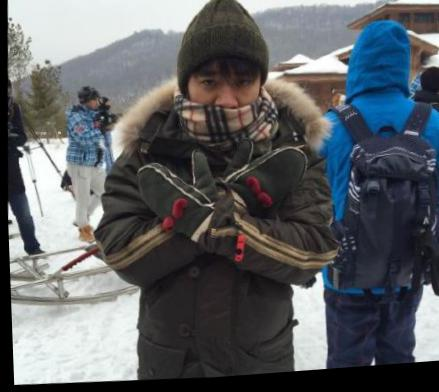NONE: (87, 95, 101, 113)
WRONG: (184, 64, 263, 150)
